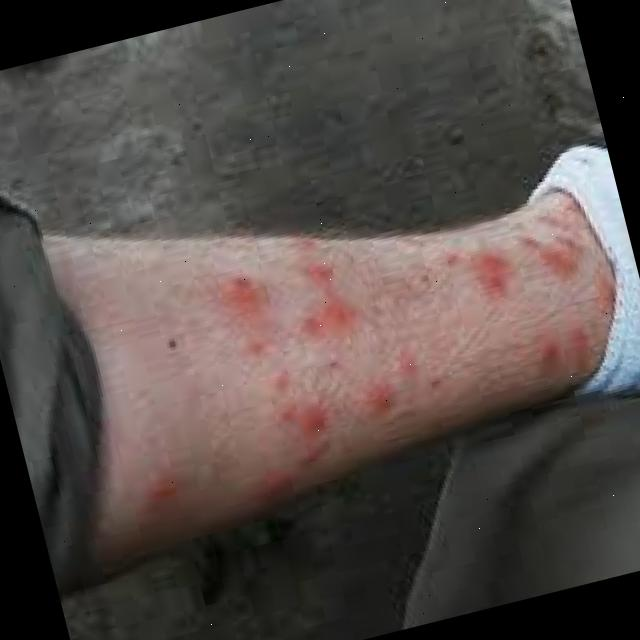kan emici bocekler: (183, 266, 295, 354), (252, 380, 349, 464), (342, 376, 416, 446), (121, 454, 185, 524), (457, 245, 532, 303)
